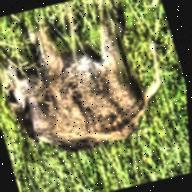boar: (0, 0, 183, 166)
